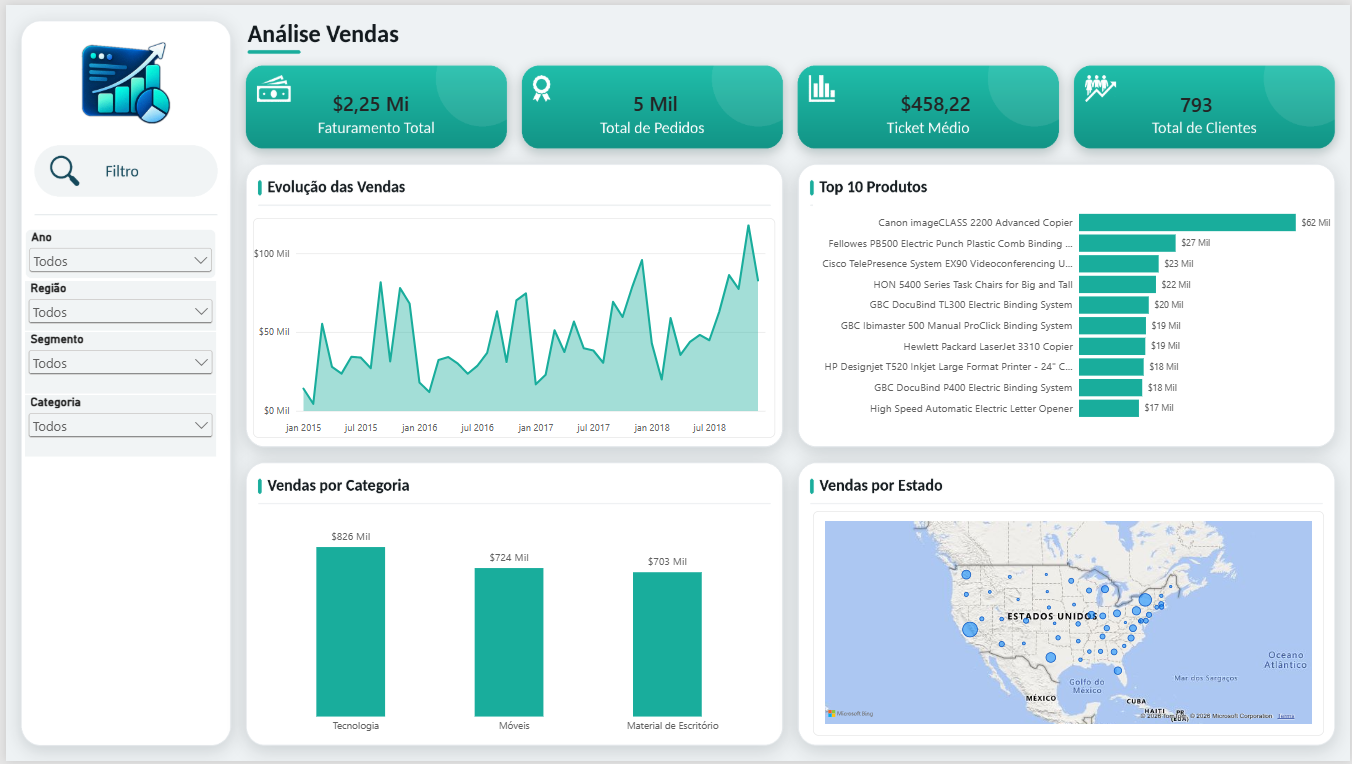

The dashboard page shown, as its layout file describes it:
{"tool":"powerbi","page":{"name":"Página 1","canvas":[1920,1080],"ordinal":0},"visuals":[{"type":"cardVisual","fields":{"Data":["base_tratada.Faturamento Total"]},"box":[450.3,96.9,196.5,86],"z":0},{"type":"cardVisual","fields":{"Data":["base_tratada.Total de Pedidos"]},"box":[835.1,99.6,184.2,80.5],"z":1000},{"type":"cardVisual","fields":{"Data":["base_tratada.Ticket Médio"]},"box":[1260.9,86,139.2,109.2],"z":2000},{"type":"cardVisual","fields":{"Data":["base_tratada.Total Clientes"]},"box":[1662.1,94.2,118.7,92.8],"z":3000},{"type":"lineChart","fields":{"Category":["base_tratada.Data do Pedido.Variation.Hierarquia de datas.Ano","base_tratada.Data do Pedido.Variation.Hierarquia de datas.Mês"],"Y":["base_tratada.Faturamento Total"]},"box":[353.4,304.3,746.4,313.9],"z":4000},{"type":"barChart","fields":{"Category":["base_tratada.Nome do Produto"],"Y":["base_tratada.Faturamento Total"]},"box":[1153.1,278.4,739.6,322],"z":5000},{"type":"lineClusteredColumnComboChart","fields":{"Category":["base_tratada.Categoria"],"Y":["base_tratada.Faturamento Total"]},"box":[353.4,713.7,746.4,330.2],"z":6000},{"type":"map","fields":{"Category":["base_tratada.Estado"],"Size":["base_tratada.Faturamento Total"]},"box":[1153.1,723.2,730.1,320.7],"z":7000},{"type":"slicer","fields":{"Values":["base_tratada.Data do Pedido.Variation.Hierarquia de datas.Ano","base_tratada.Data do Pedido.Variation.Hierarquia de datas.Mês"]},"box":[27.5,320,272.5,71.2],"z":7001},{"type":"slicer","fields":{"Values":["base_tratada.Região"]},"box":[27.5,393.8,272.5,71.2],"z":7002},{"type":"slicer","fields":{"Values":["base_tratada.Segmento"]},"box":[27.5,467.5,272.5,87.5],"z":7003},{"type":"slicer","fields":{"Values":["base_tratada.Categoria"]},"box":[27.5,557.5,272.5,87.5],"z":7004}]}

Visuals, with their boxes in screenshot pixels (x1, y1, x2, y2), scaled from the page's 1920x1080 canvas onto the 1352x764 screenshot:
cardVisual - base_tratada.Faturamento Total: [317, 69, 455, 129]
cardVisual - base_tratada.Total de Pedidos: [588, 70, 718, 127]
cardVisual - base_tratada.Ticket Médio: [888, 61, 986, 138]
cardVisual - base_tratada.Total Clientes: [1170, 67, 1254, 132]
lineChart - base_tratada.Data do Pedido.Variation.Hierarquia de datas.Ano x base_tratada.Data do Pedido.Variation.Hierarquia de datas.Mês: [249, 215, 774, 437]
barChart - base_tratada.Nome do Produto x base_tratada.Faturamento Total: [812, 197, 1333, 425]
lineClusteredColumnComboChart - base_tratada.Categoria x base_tratada.Faturamento Total: [249, 505, 774, 738]
map - base_tratada.Estado x base_tratada.Faturamento Total: [812, 512, 1326, 738]
slicer - base_tratada.Data do Pedido.Variation.Hierarquia de datas.Ano x base_tratada.Data do Pedido.Variation.Hierarquia de datas.Mês: [19, 226, 211, 277]
slicer - base_tratada.Região: [19, 279, 211, 329]
slicer - base_tratada.Segmento: [19, 331, 211, 393]
slicer - base_tratada.Categoria: [19, 394, 211, 456]
